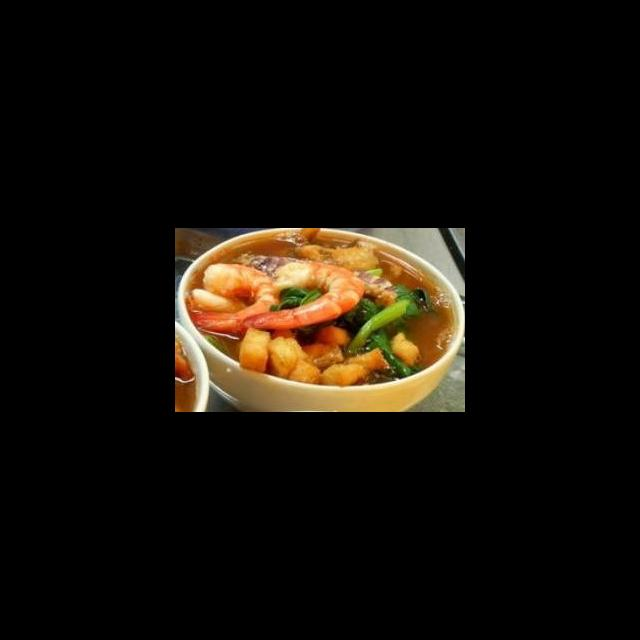dau hu: (328, 259, 377, 306), (365, 264, 404, 314), (267, 250, 323, 282), (246, 265, 300, 295), (314, 250, 354, 282)
tom: (272, 307, 398, 381), (356, 302, 452, 380)
tom tit: (234, 333, 403, 388)
